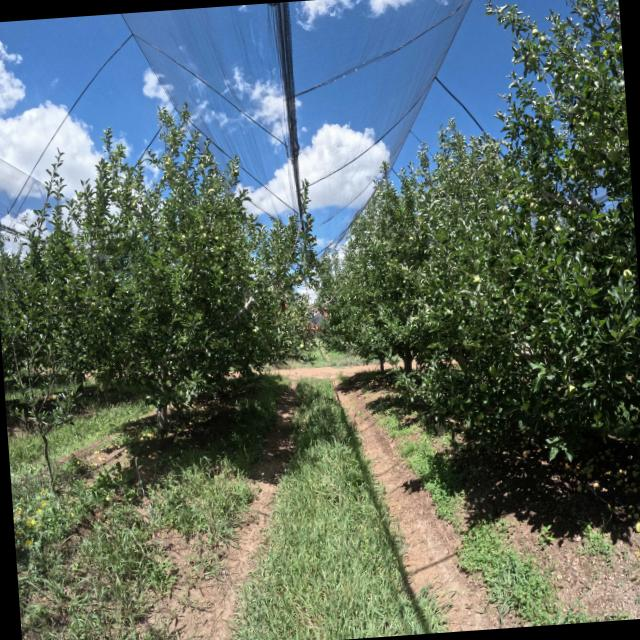-FireBlight-: (304, 320, 326, 336), (278, 298, 290, 313), (310, 304, 322, 318), (322, 310, 332, 322)
